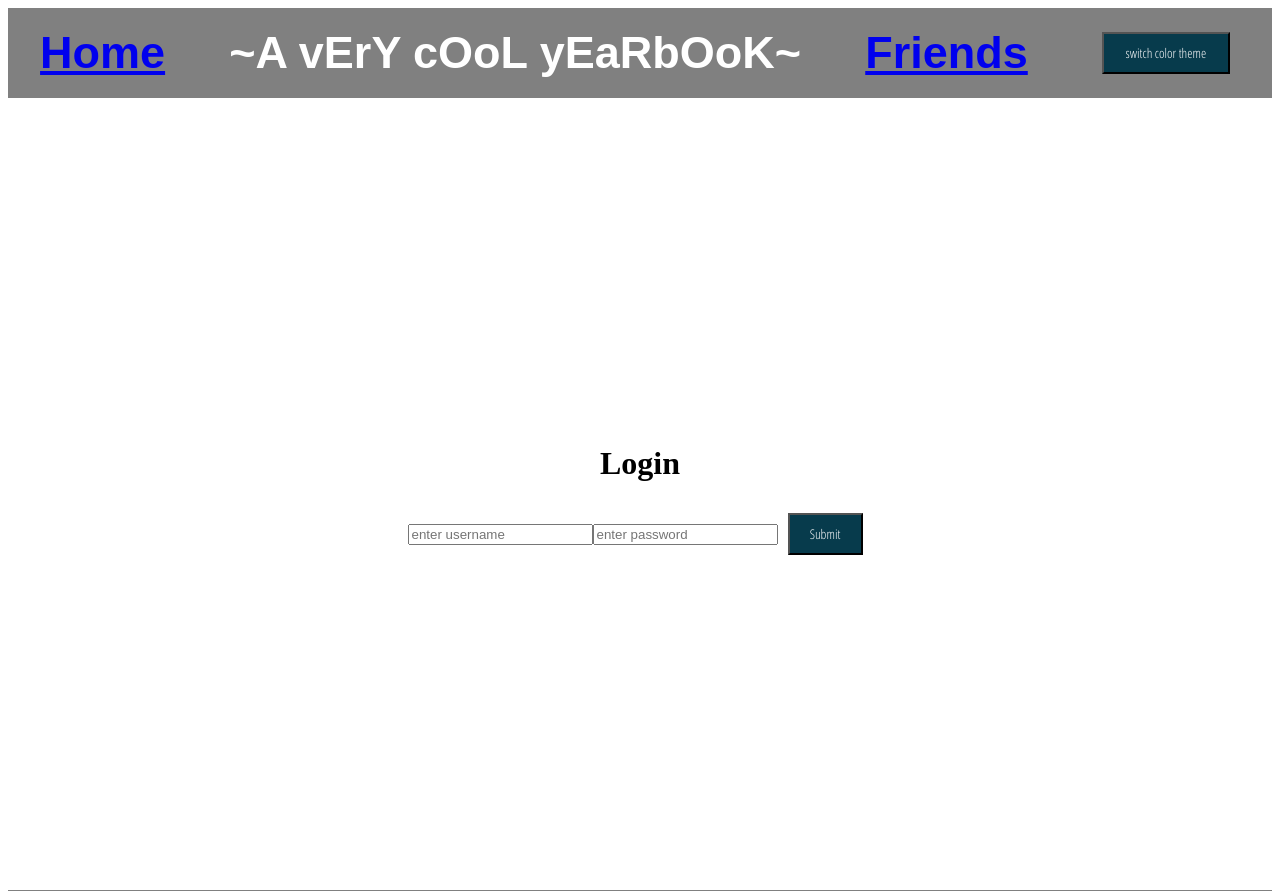
it: renders welcome message when signed in, user can sign yearbook
Expected: the text "~A vErY cOoL yEaRbOoK~" is shown, [229, 27, 801, 79]
In the field with placeholder "enter username": [500, 534] box [408, 524, 592, 545], type "michellerenehey"
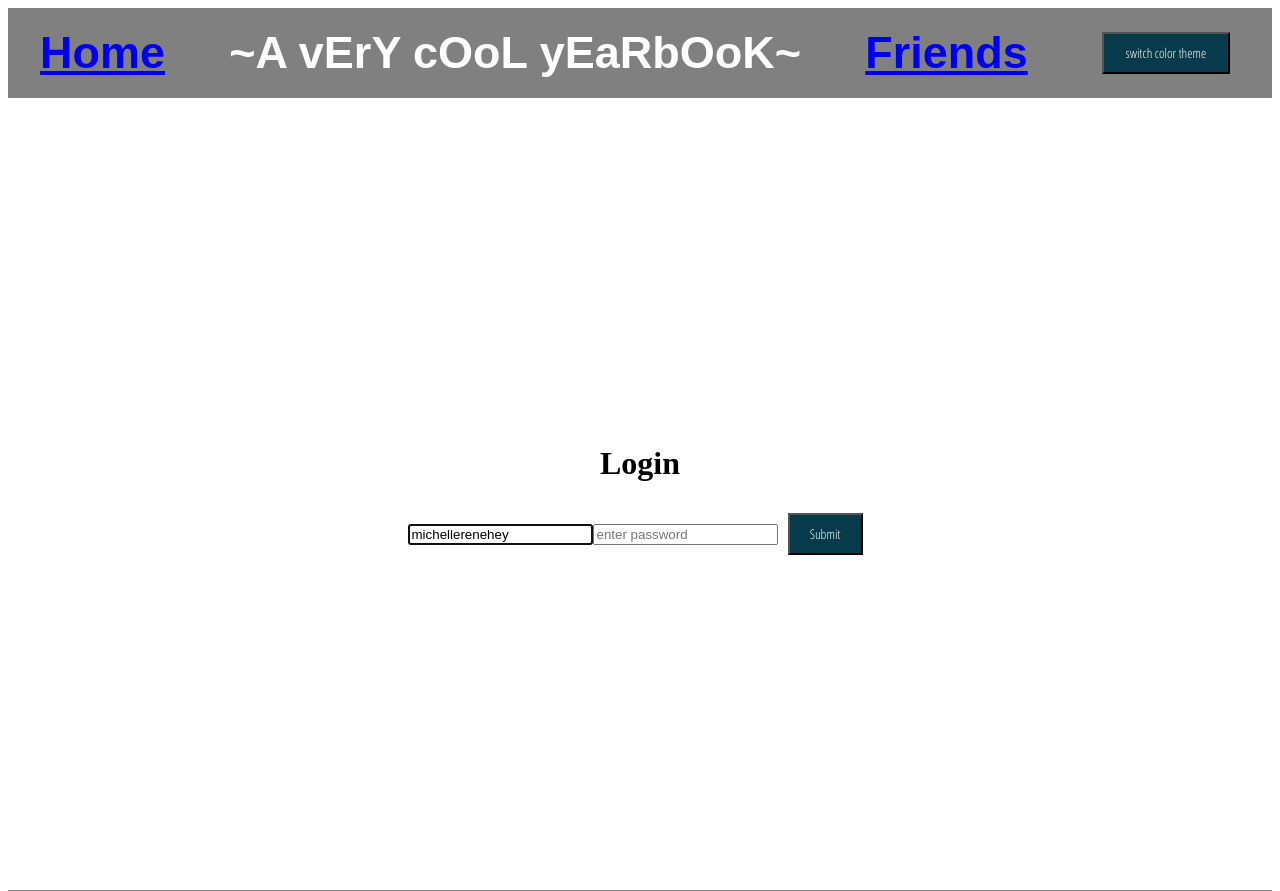
In the field with placeholder "enter password": [685, 534] box [592, 524, 778, 545], type "123456"
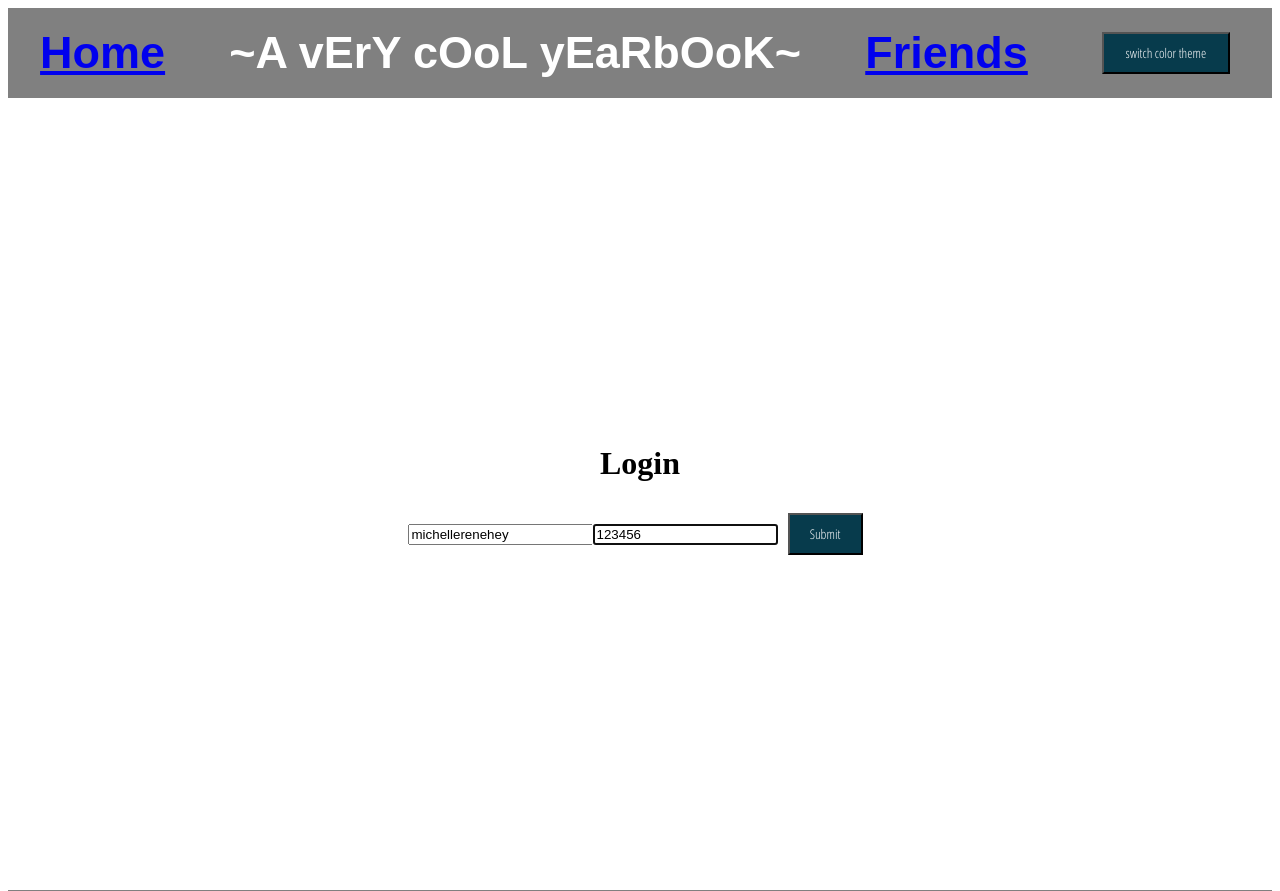
Click the button "Submit": [825, 534] box [788, 513, 862, 555]
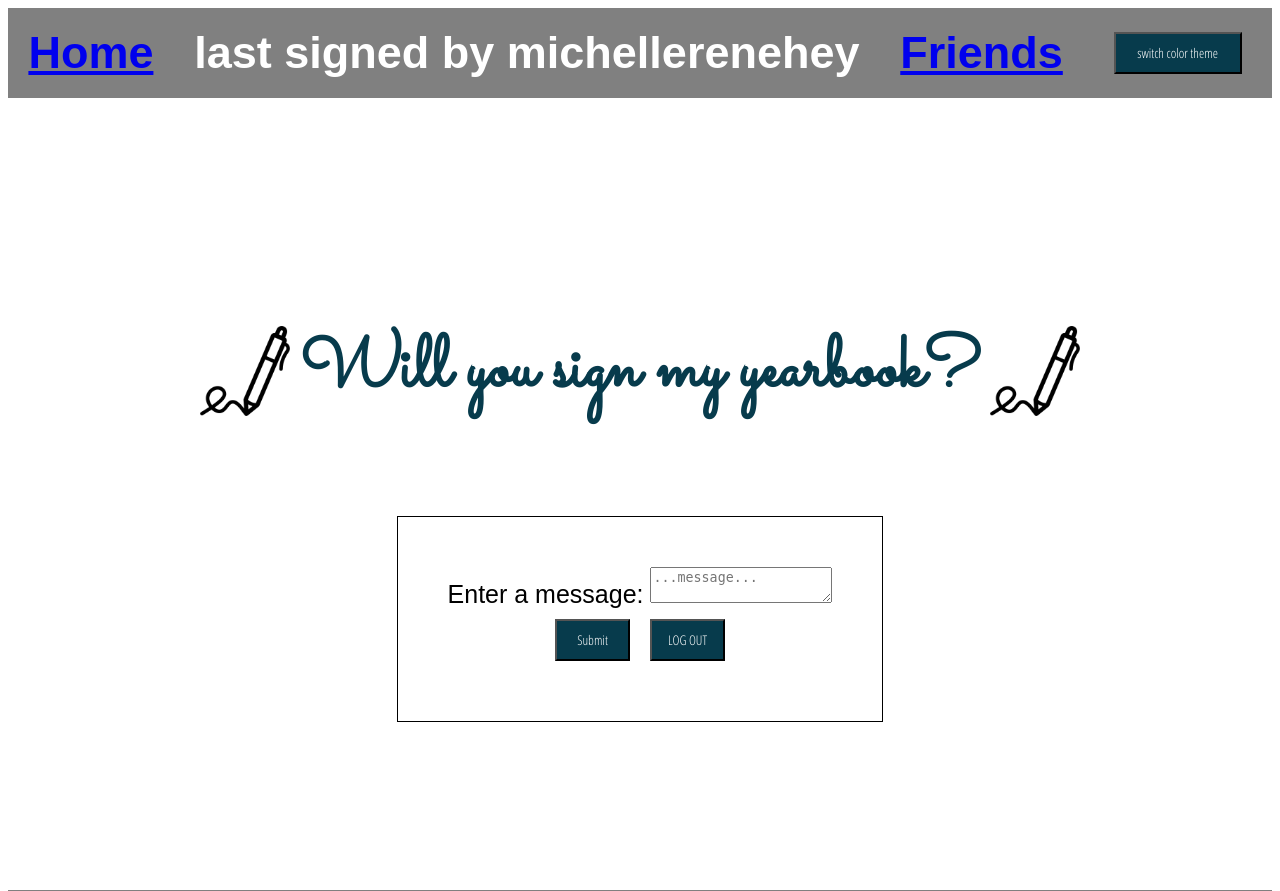
Expected: the button "Submit" is shown, [555, 618, 630, 660]
Expected: the heading "Will you sign my yearbook?" is shown, [300, 318, 980, 424]
Expected: the text "Enter a message:" is shown, [448, 580, 650, 608]
In the text box with placeholder "...message...": [741, 584] box [650, 566, 832, 602], type "Have a good summer!"
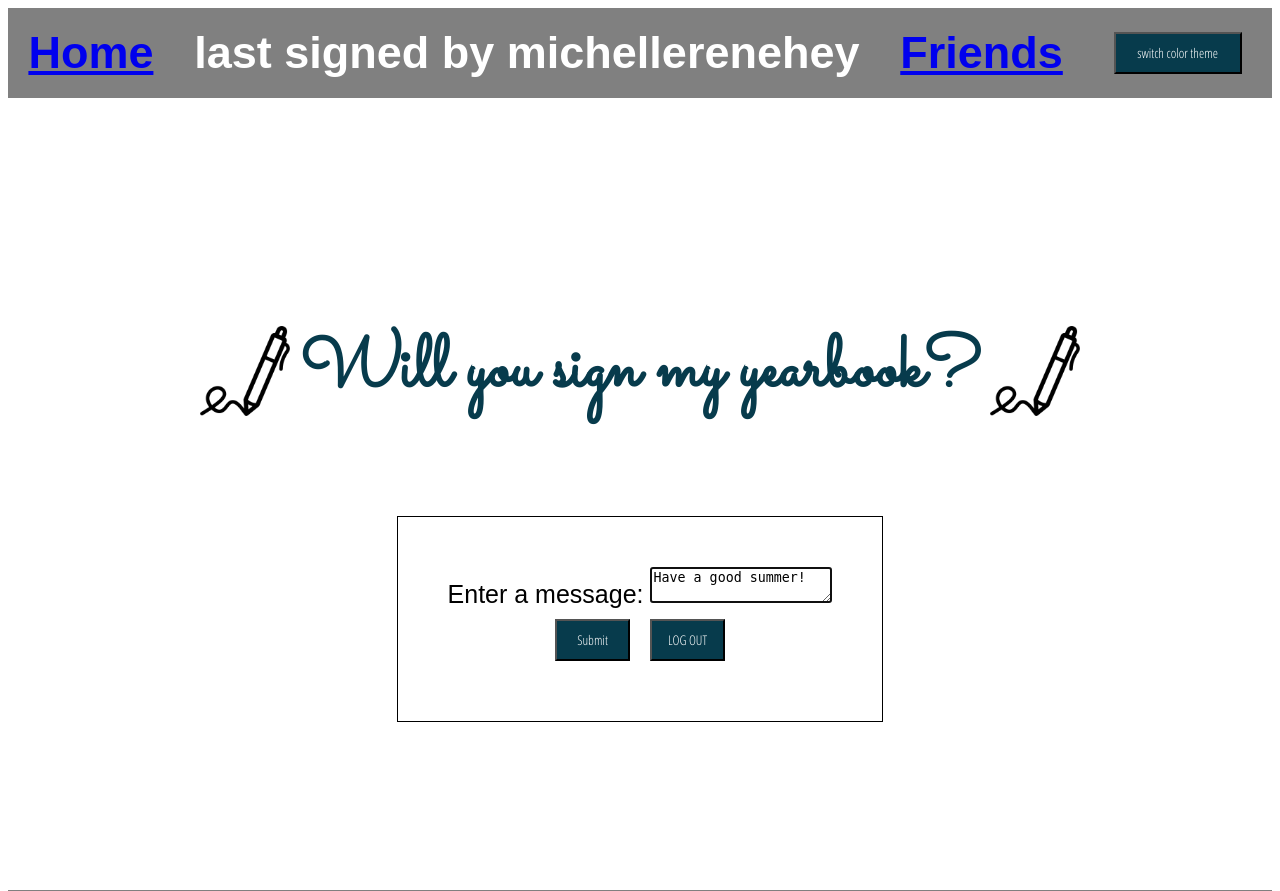
Click the button "Submit": [592, 640] box [555, 618, 630, 660]
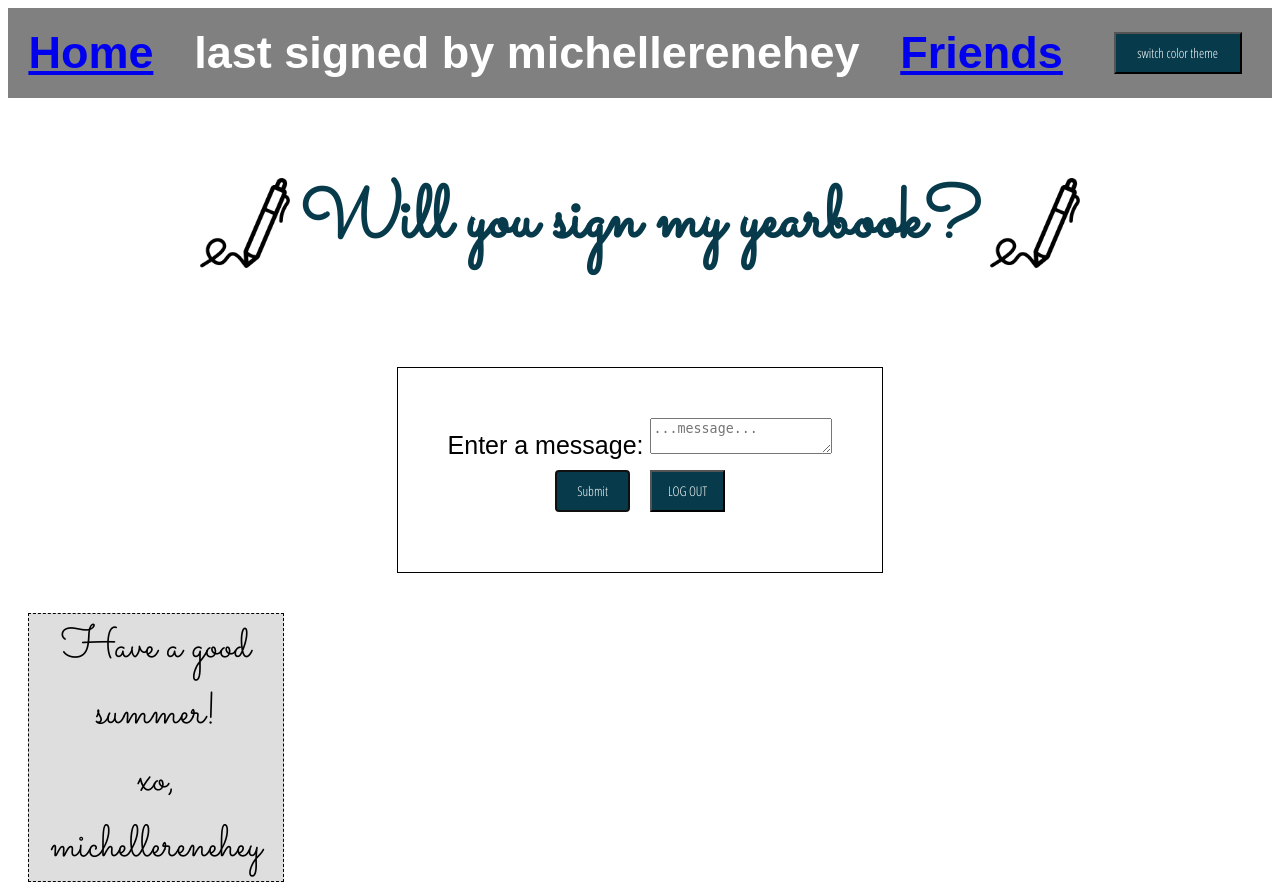
Expected: the text "last signed by michellerenehey" is shown, [194, 27, 860, 79]
Expected: the text "Have a good summer!" is shown, [62, 615, 250, 747]
Expected: the text "xo, michellerenehey" is shown, [50, 748, 262, 880]
